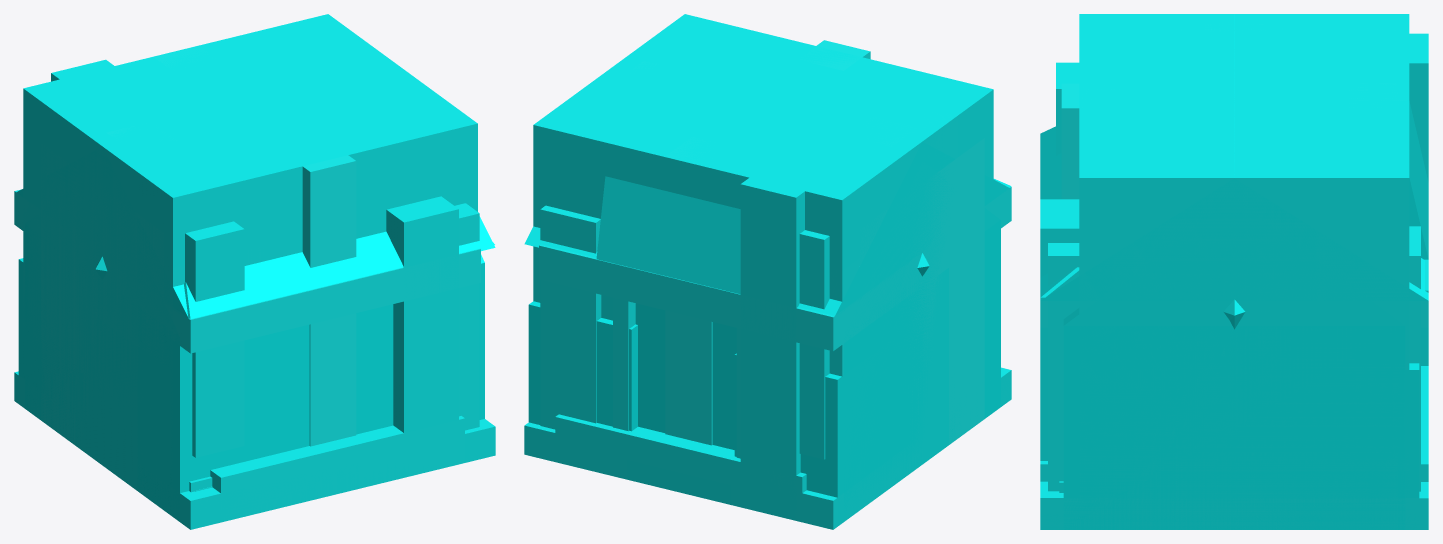
File: environment_library.glb
3 renders of one model, left to right at view 1: azimuth 30°, elevation 25°; view 2: azimuth 150°, elevation 25°; view 3: azimuth 270°, elevation 25°, orthographic. The views are drawn at different scales.
Parts seen in each view (by area): view 1: env_site_cave_lod0, env_site_ruin_lod0, env_house_base_hlod, env_site_secret_lod0, env_house_courtyard_lod0, env_leyline_vein_lod0, env_house_small_lod0, env_site_formation_lod0, env_house_hall_lod0, env_house_base_lod0; view 2: env_site_cave_lod0, env_house_base_hlod, env_house_courtyard_lod0, env_leyline_vein_lod0, env_site_secret_lod0, env_house_small_lod0, env_house_base_lod0, env_site_formation_lod0, env_site_ruin_lod0, env_house_hall_lod0; view 3: env_site_cave_lod0, env_house_base_hlod, env_house_base_lod0, env_site_secret_lod0, env_house_courtyard_lod0, env_site_ruin_lod0, env_leyline_vein_lod0, env_site_formation_lod0, env_house_hall_lod0, env_house_small_lod0.
Part boxes in pixels (x1,y1,x2,y2): env_site_cave_lod0: (23, 14, 479, 521); env_site_ruin_lod0: (14, 80, 495, 529); env_house_base_hlod: (25, 171, 484, 521); env_site_secret_lod0: (41, 32, 461, 514); env_house_courtyard_lod0: (18, 258, 495, 529); env_leyline_vein_lod0: (51, 59, 458, 432); env_house_small_lod0: (14, 189, 480, 353); env_site_formation_lod0: (106, 46, 356, 446); env_house_hall_lod0: (184, 228, 494, 492); env_house_base_lod0: (16, 146, 495, 491); env_site_cave_lod0: (533, 14, 993, 521); env_house_base_hlod: (635, 162, 1000, 521); env_house_courtyard_lod0: (528, 176, 1011, 526); env_leyline_vein_lod0: (740, 138, 948, 520); env_site_secret_lod0: (559, 26, 984, 507); env_house_small_lod0: (539, 187, 1011, 351); env_house_base_lod0: (524, 142, 1009, 318); env_site_formation_lod0: (630, 40, 910, 445); env_site_ruin_lod0: (524, 103, 1011, 529); env_house_hall_lod0: (627, 179, 1011, 504); env_site_cave_lod0: (1040, 14, 1428, 529); env_house_base_hlod: (1063, 199, 1405, 529); env_house_base_lod0: (1040, 14, 1428, 300); env_site_secret_lod0: (1114, 137, 1354, 529); env_house_courtyard_lod0: (1040, 101, 1428, 529); env_site_ruin_lod0: (1040, 14, 1428, 529); env_leyline_vein_lod0: (1040, 33, 1428, 528); env_site_formation_lod0: (1061, 23, 1406, 199); env_house_hall_lod0: (1040, 126, 1079, 492); env_house_small_lod0: (1040, 26, 1428, 529).
Size of what is drawn, in the model's own units: 1.05 by 1 by 1.
Materials: 1 (1 with a texture image).
